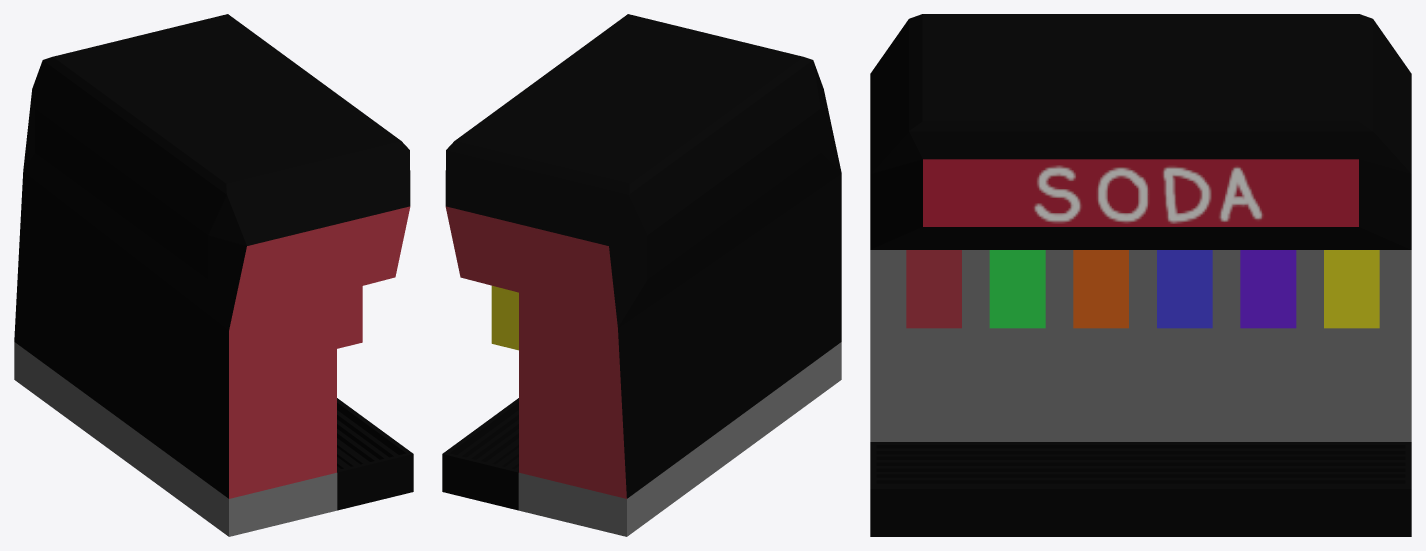
File: SodaMachine.fbx
The picture shows the model from 3 angles, left to right: view 1: azimuth 30°, elevation 25°; view 2: azimuth 150°, elevation 25°; view 3: azimuth 270°, elevation 25°; orthographic projection. The views are drawn at different scales.
Parts seen in each view (by area): view 1: Cube, Cube.001; view 2: Cube, Cube.007; view 3: Cube, Cube.003, Cube.006, Cube.001, Cube.004, Cube.005, Cube.007.
Part boxes in pixels (<box>): Cube: <box>14,14,413,536</box>; Cube.001: <box>337,286,362,348</box>; Cube: <box>442,14,841,536</box>; Cube.007: <box>491,285,518,350</box>; Cube: <box>870,14,1411,536</box>; Cube.003: <box>989,250,1045,328</box>; Cube.006: <box>1240,250,1296,328</box>; Cube.001: <box>906,250,961,328</box>; Cube.004: <box>1073,250,1128,328</box>; Cube.005: <box>1157,250,1212,328</box>; Cube.007: <box>1324,250,1379,328</box>.
Bounding box in the file's own units: 296 × 472 × 550.
Materials: 9 (1 with a texture image).
